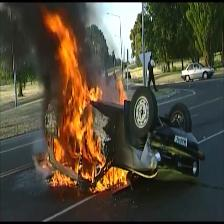fire: (37, 14, 121, 193)
smoke: (10, 3, 36, 77)
